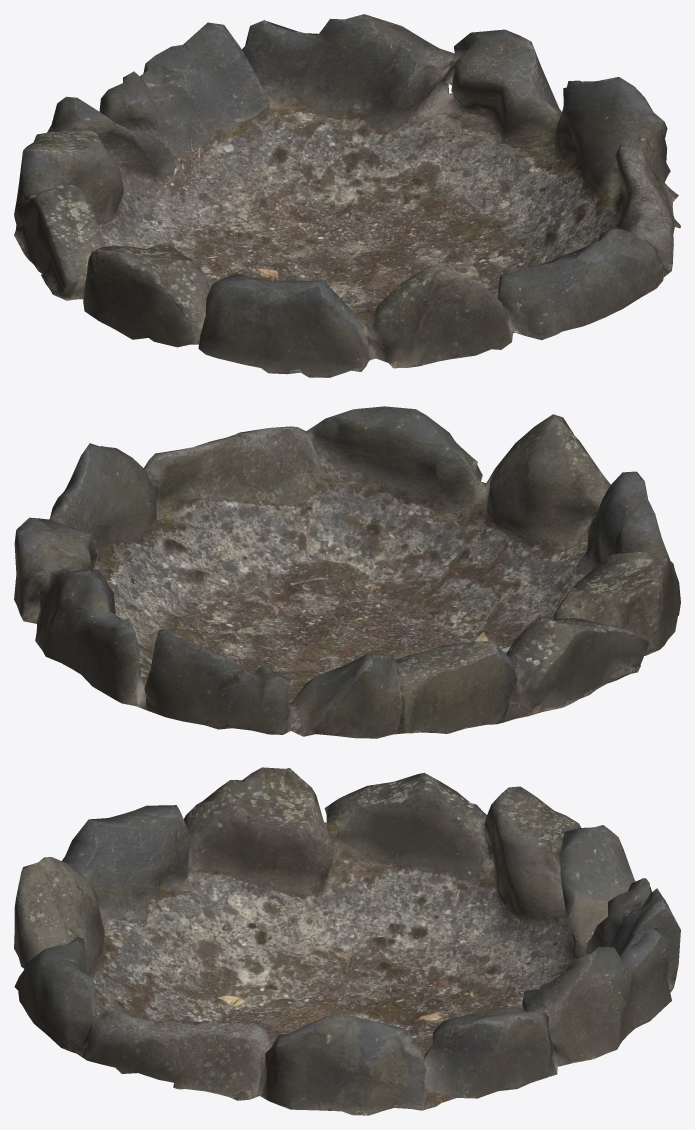
The model's file is stone_fire_pit.glb.
3 views of the same model, one above another, from view 1: azimuth 30°, elevation 25°; view 2: azimuth 150°, elevation 25°; view 3: azimuth 270°, elevation 25° (orthographic).
Parts seen in each view (by area): view 1: stone_fire_pit; view 2: stone_fire_pit; view 3: stone_fire_pit.
Boxes of the visible parts, x1,y1,x2,y2 form: stone_fire_pit: (14, 14, 680, 377); stone_fire_pit: (14, 406, 680, 738); stone_fire_pit: (14, 767, 680, 1115).
Size of the model in its own units: 1.45 by 0.3883 by 1.43.
1 material, 1 textured.
